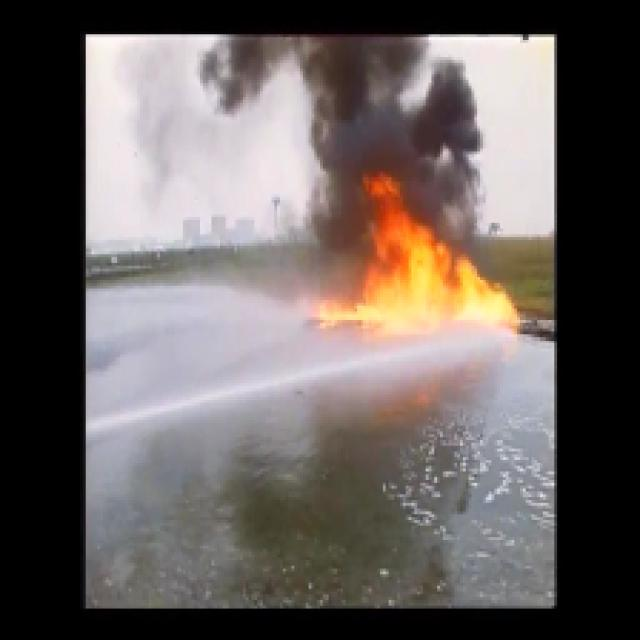fire: (365, 234, 513, 329)
smoke: (314, 42, 468, 214)
